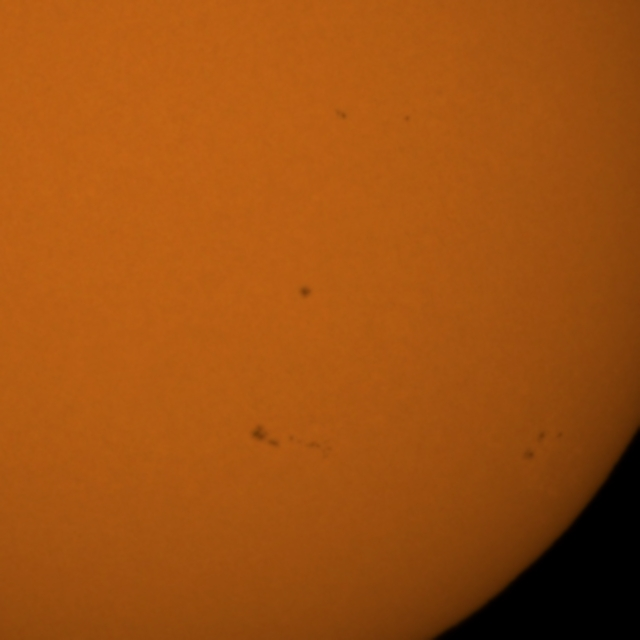sunspot: (257, 430, 329, 455), (248, 424, 301, 450), (522, 429, 556, 462), (534, 428, 564, 447), (296, 283, 314, 302), (333, 105, 349, 123), (554, 429, 564, 441), (402, 113, 412, 125)
